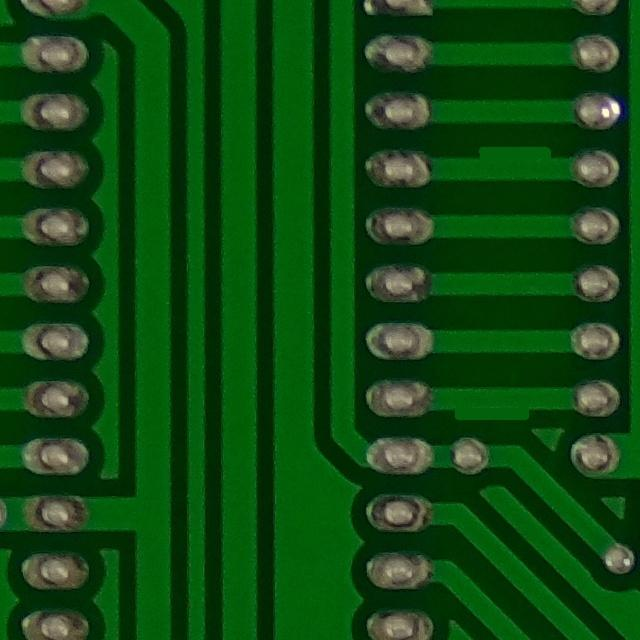spur: (464, 127, 564, 177), (440, 386, 545, 431)
